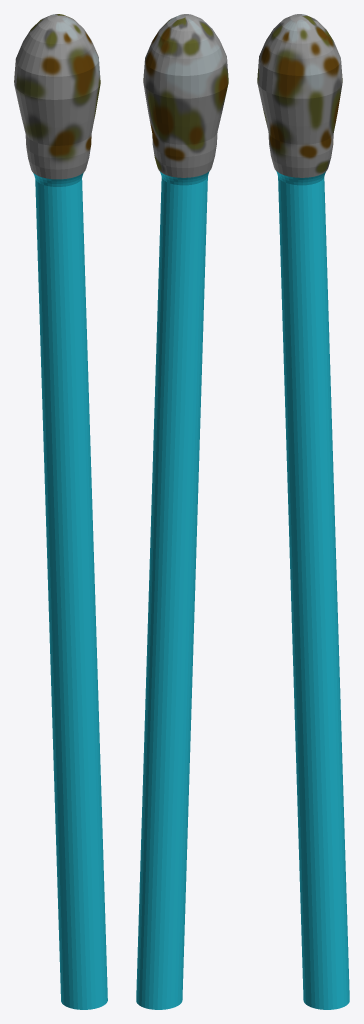
Rendered from QTipModel.fbx.
The picture shows the model from 3 angles, left to right: view 1: azimuth 30°, elevation 25°; view 2: azimuth 210°, elevation 25°; view 3: azimuth 330°, elevation 25°; orthographic projection.
Visible parts, largest first — view 1: Stick, Tip; view 2: Stick, Tip; view 3: Stick, Tip.
Boxes of the visible parts, x1,y1,x2,y2 form: Stick: [33, 172, 107, 1009]; Tip: [14, 14, 100, 179]; Stick: [136, 171, 209, 1009]; Tip: [143, 14, 228, 177]; Stick: [276, 171, 349, 1009]; Tip: [257, 14, 342, 177].
Bounding box in the file's own units: 33.92 × 376 × 29.29.
